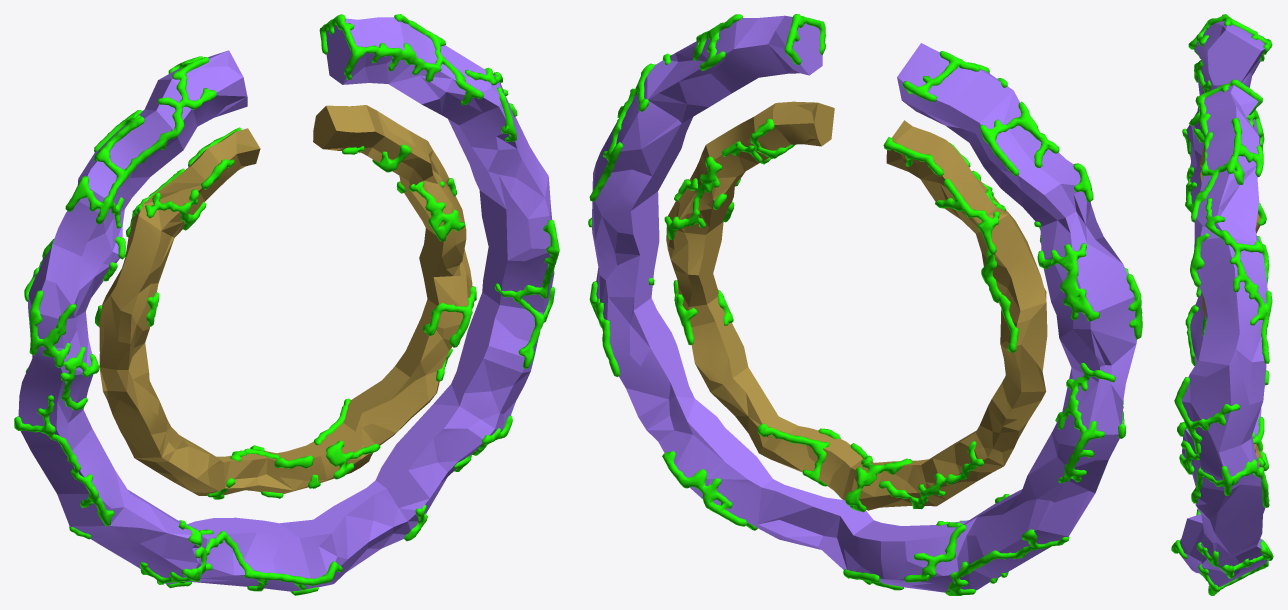
File: Tor_Portal.FBX
The picture shows the model from 3 angles, left to right: view 1: azimuth 30°, elevation 25°; view 2: azimuth 150°, elevation 25°; view 3: azimuth 270°, elevation 25°; orthographic projection. The views are drawn at different scales.
Parts seen in each view (by area): view 1: Torus002, Torus001, tyMesher001_mesh002; view 2: Torus002, Torus001, tyMesher001_mesh002; view 3: Torus002, tyMesher001_mesh002, Torus001.
Part boxes in pixels (x1=…): Torus002: x1=18, y1=17, x2=554, y2=591; Torus001: x1=98, y1=105, x2=472, y2=495; tyMesher001_mesh002: x1=14, y1=14, x2=559, y2=595; Torus002: x1=592, y1=15, x2=1136, y2=592; Torus001: x1=666, y1=101, x2=1047, y2=510; tyMesher001_mesh002: x1=588, y1=14, x2=1142, y2=595; Torus002: x1=1178, y1=21, x2=1267, y2=587; tyMesher001_mesh002: x1=1171, y1=14, x2=1273, y2=595; Torus001: x1=1200, y1=147, x2=1264, y2=469.
Size of the model in its own units: 264 by 47.27 by 264.
